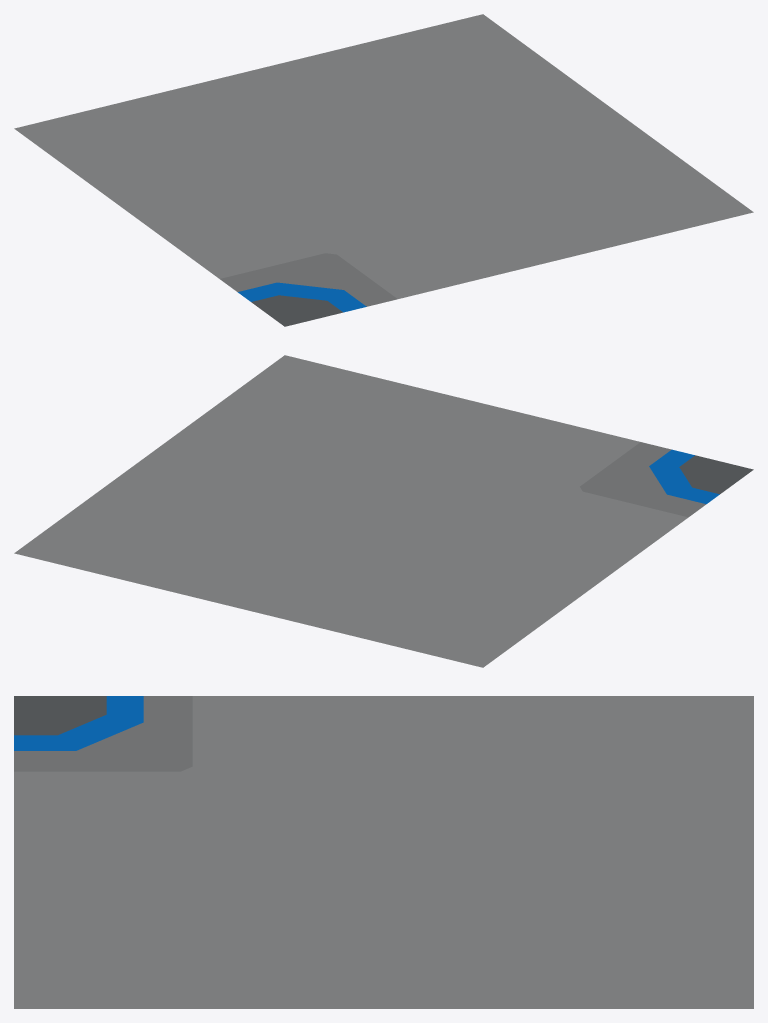
The model's file is Ceiling_type_B_026.fbx.
The picture shows the model from 3 angles, top to bottom: view 1: azimuth 30°, elevation 25°; view 2: azimuth 150°, elevation 25°; view 3: azimuth 270°, elevation 25°; orthographic projection. The views are drawn at different scales.
Parts seen in each view (by area): view 1: Ceiling_type_B_026; view 2: Ceiling_type_B_026; view 3: Ceiling_type_B_026.
Part boxes in pixels (x1,y1,x2,y2): Ceiling_type_B_026: (14, 14, 753, 326); Ceiling_type_B_026: (14, 355, 753, 667); Ceiling_type_B_026: (14, 696, 753, 1008).
Bounding box in the file's own units: 400 × 400 × 6.18.
